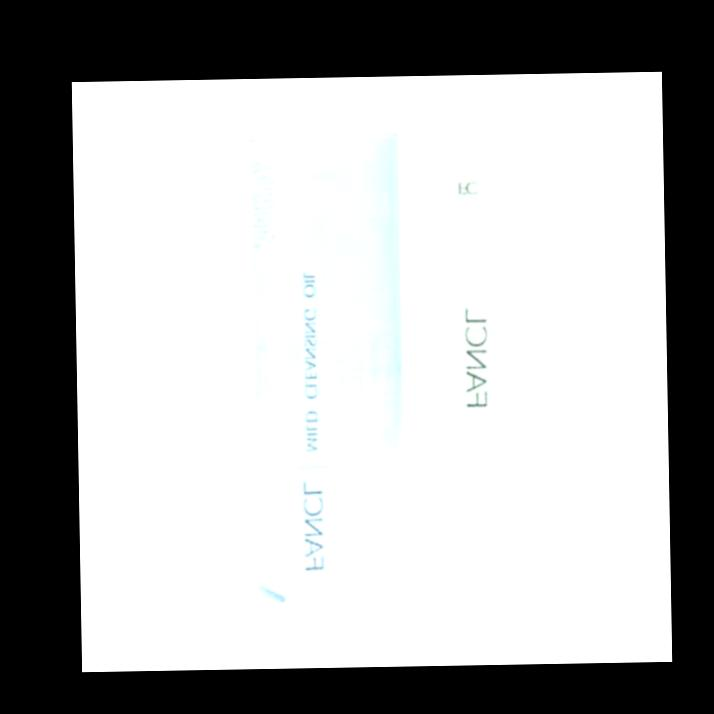cosmetic: (405, 136, 544, 580)
